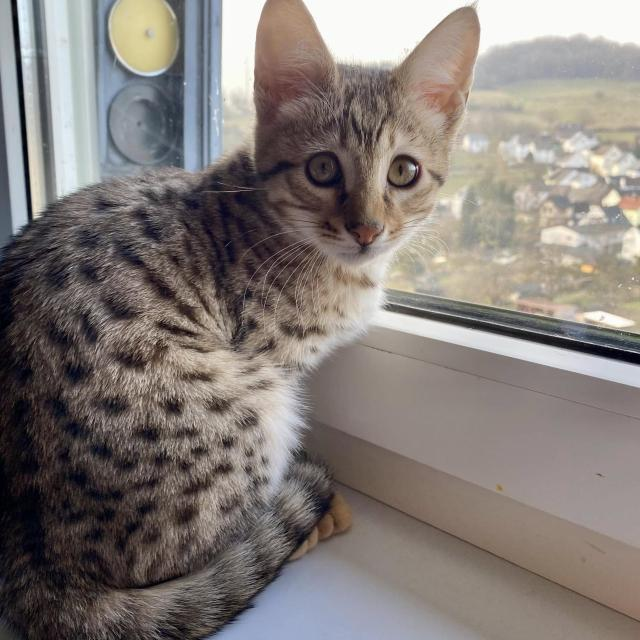Savannah: (0, 0, 486, 640)
